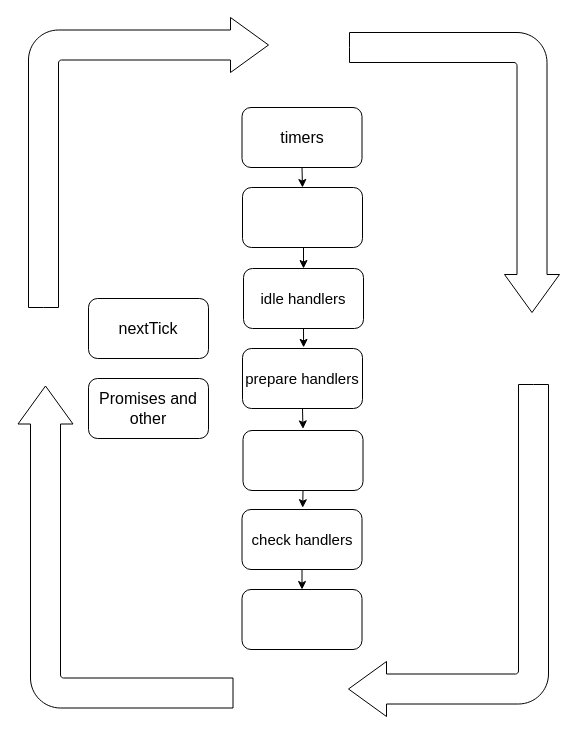
Some shapes in this 577 by 734 pixel diagram are drawn without their labels. The box of each missing label's shape, as (x1, y1, x2, y2) in pixels:
close handlers: (241, 588, 362, 650)
i/o poll: (242, 430, 363, 490)
pending i/o callbacks: (242, 186, 362, 248)
